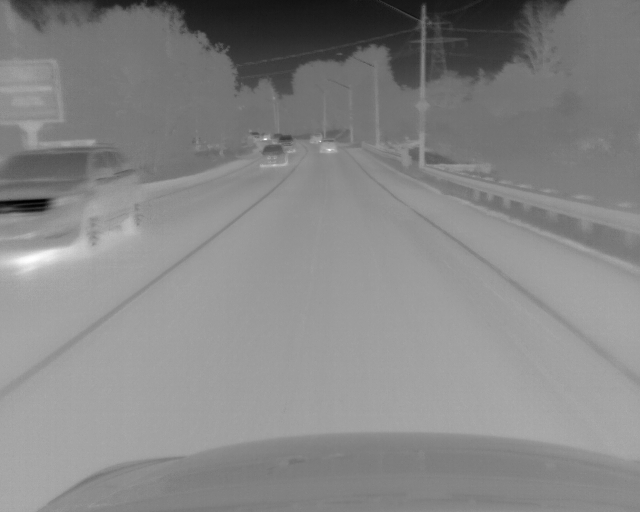car: (1, 144, 147, 262), (259, 145, 287, 168), (318, 137, 336, 155), (279, 134, 294, 153), (308, 132, 323, 145), (260, 131, 276, 143), (248, 131, 259, 142)
